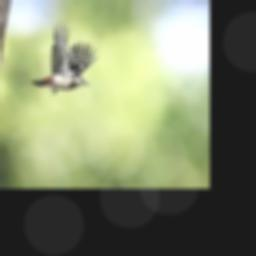Woodpecker: (31, 18, 99, 94)
